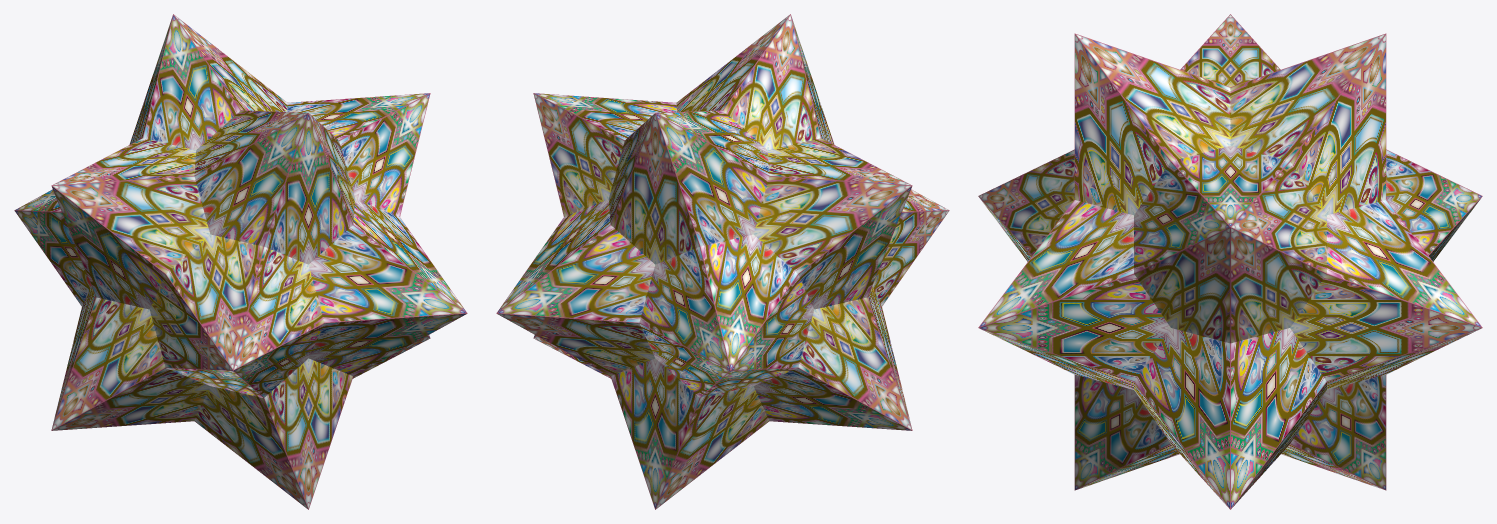
The model's file is 6MedialRhombicTriacontahedron.obj.
3 views of the same model, side by side, from view 1: azimuth 30°, elevation 25°; view 2: azimuth 150°, elevation 25°; view 3: azimuth 270°, elevation 25° (orthographic). The views are drawn at different scales.
Bounding box in the file's own units: 2.43 × 2.43 × 2.43.
1 material, 1 textured.
